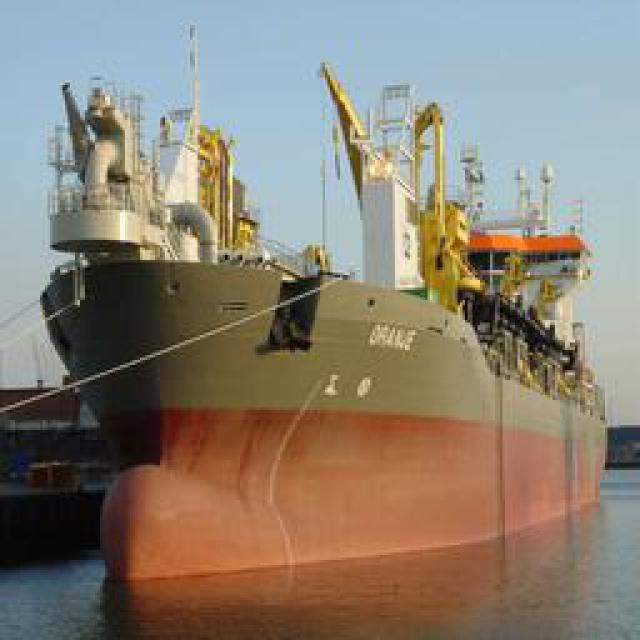Ship: (44, 37, 609, 615)
